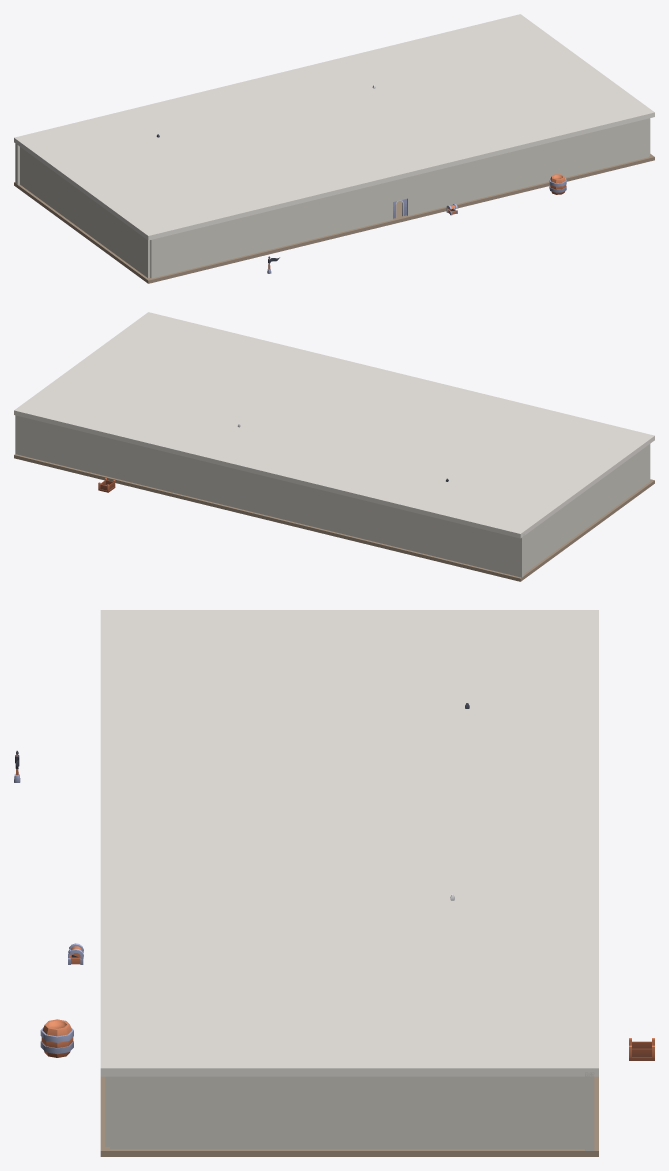
The model's file is world.glb.
The picture shows the model from 3 angles, top to bottom: view 1: azimuth 30°, elevation 25°; view 2: azimuth 150°, elevation 25°; view 3: azimuth 270°, elevation 25°; orthographic projection. The views are drawn at different scales.
Parts seen in each view (by area): view 1: Ceiling, Wall_S_L, Wall_S_R, Wall_W, Terrain; view 2: Ceiling, Wall_N, Wall_W, Terrain; view 3: Ceiling, Wall_E, Terrain, Cargo_012_barrel, Wall_N.
Boxes of the visible parts, x1,y1,x2,y2 form: Ceiling: (14,14,654,240); Wall_S_L: (150,181,392,278); Wall_S_R: (407,118,649,215); Wall_W: (20,147,150,278); Terrain: (14,154,654,283); Ceiling: (14,312,654,538); Wall_N: (15,415,524,577); Wall_W: (524,444,650,573); Terrain: (14,454,654,581); Ceiling: (100,610,598,1076); Wall_E: (110,1076,584,1148); Terrain: (100,1076,598,1156); Cargo_012_barrel: (40,1019,73,1057); Wall_N: (585,1072,594,1150).
Bounding box in the file's own units: 81.4 × 7.8 × 48.12.
Materials: 68 (15 with a texture image).
